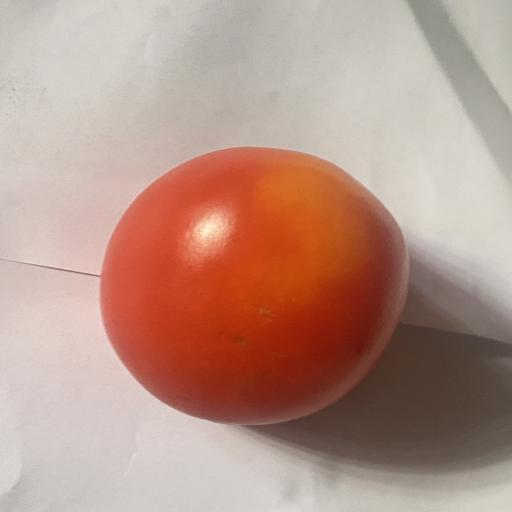ripe: (100, 147, 408, 424)
